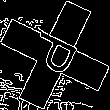P_SE: (24, 27, 86, 83)
